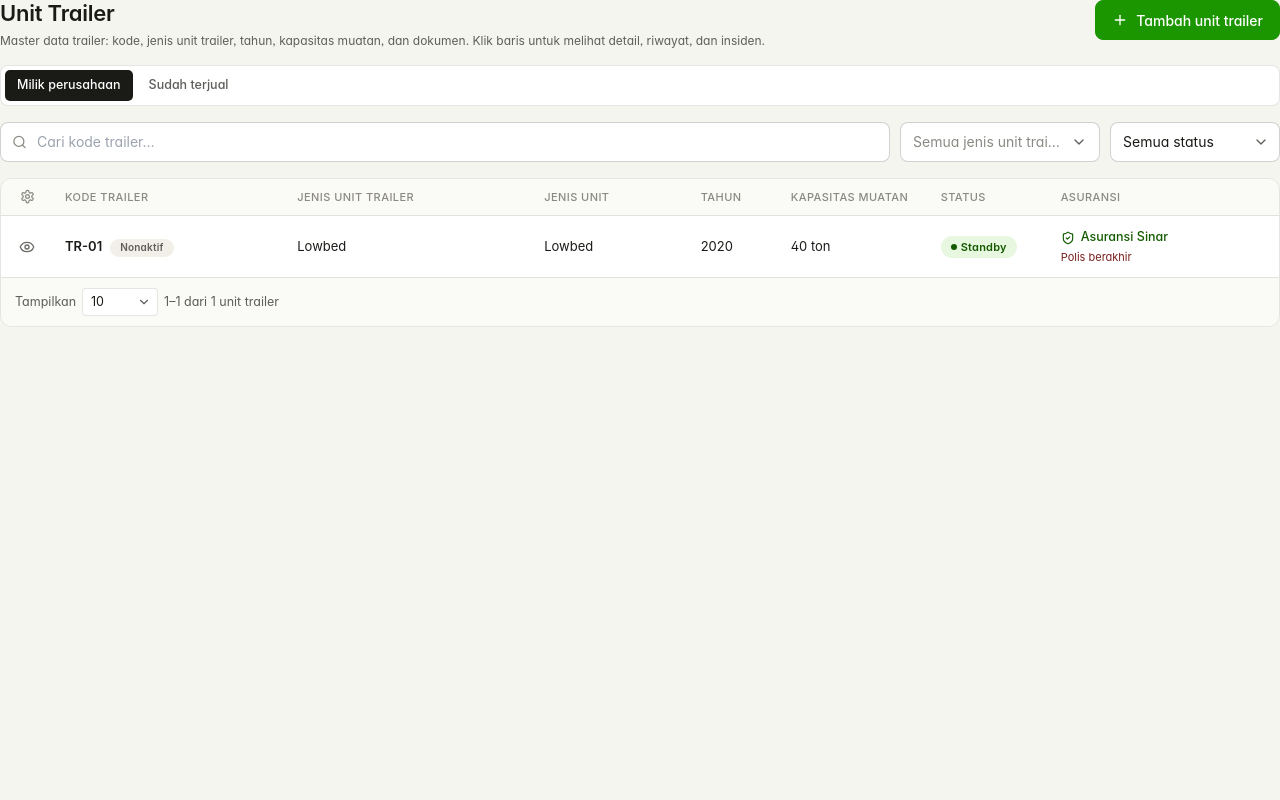
Test: UnitTrailerView › tahun tidak valid menggagalkan tambah — tidak ada yang dikirim ke server
Click the button "Tambah unit trailer" at (1188, 20), box [1095,0,1279,40]
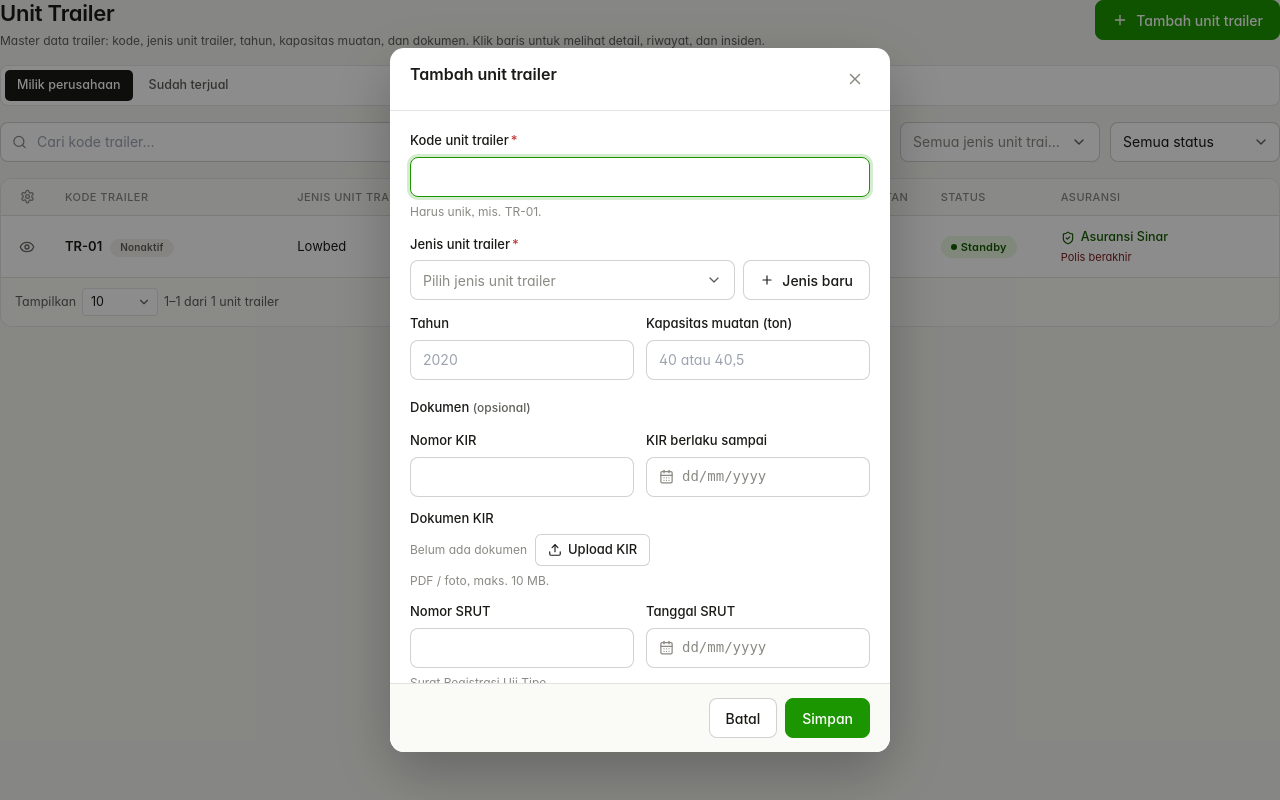
Type "TR-03" into the field below "Kode unit trailer" at (640, 176), box [410,156,870,196]
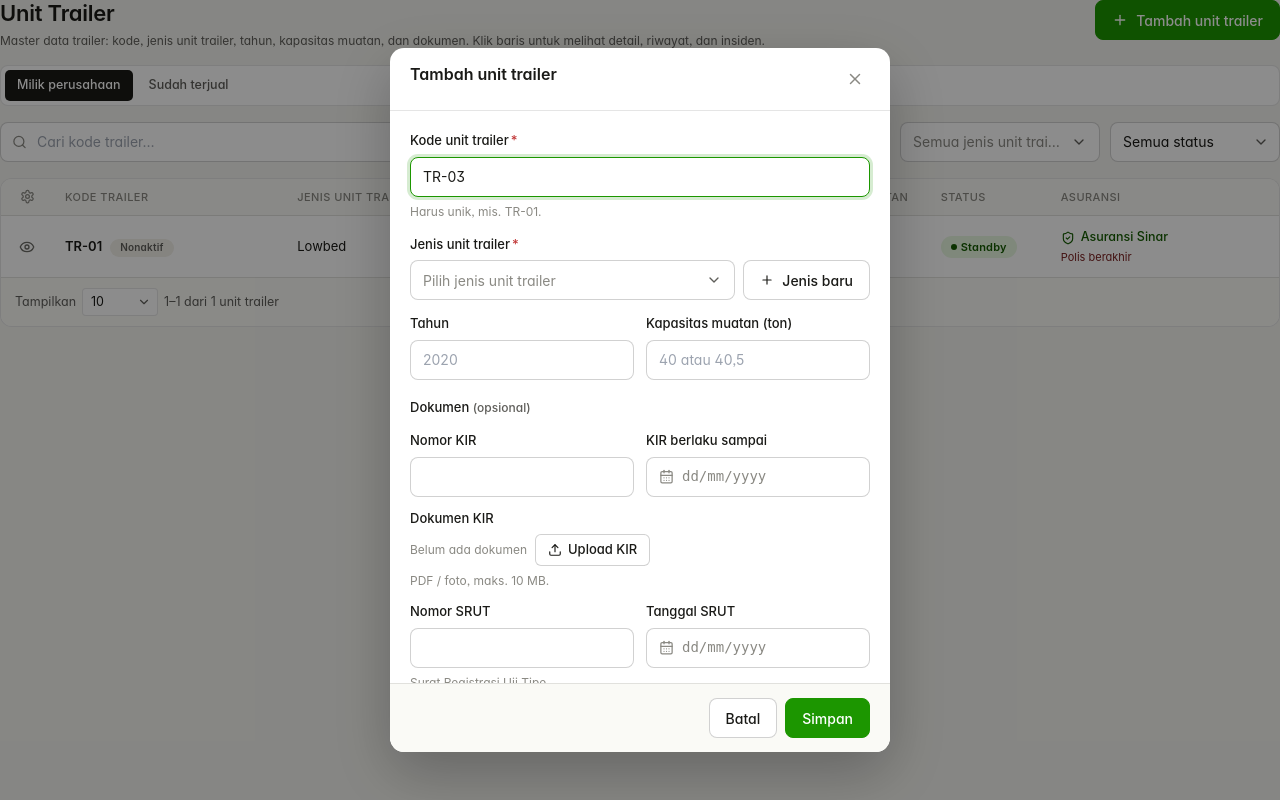
# Pilih jenis unit trailer supaya satu-satunya kesalahan adalah tahun.
Click the button with class "combobox-trigger" showing "Pilih jenis unit trailer" at (489, 280), box [410,260,735,300]
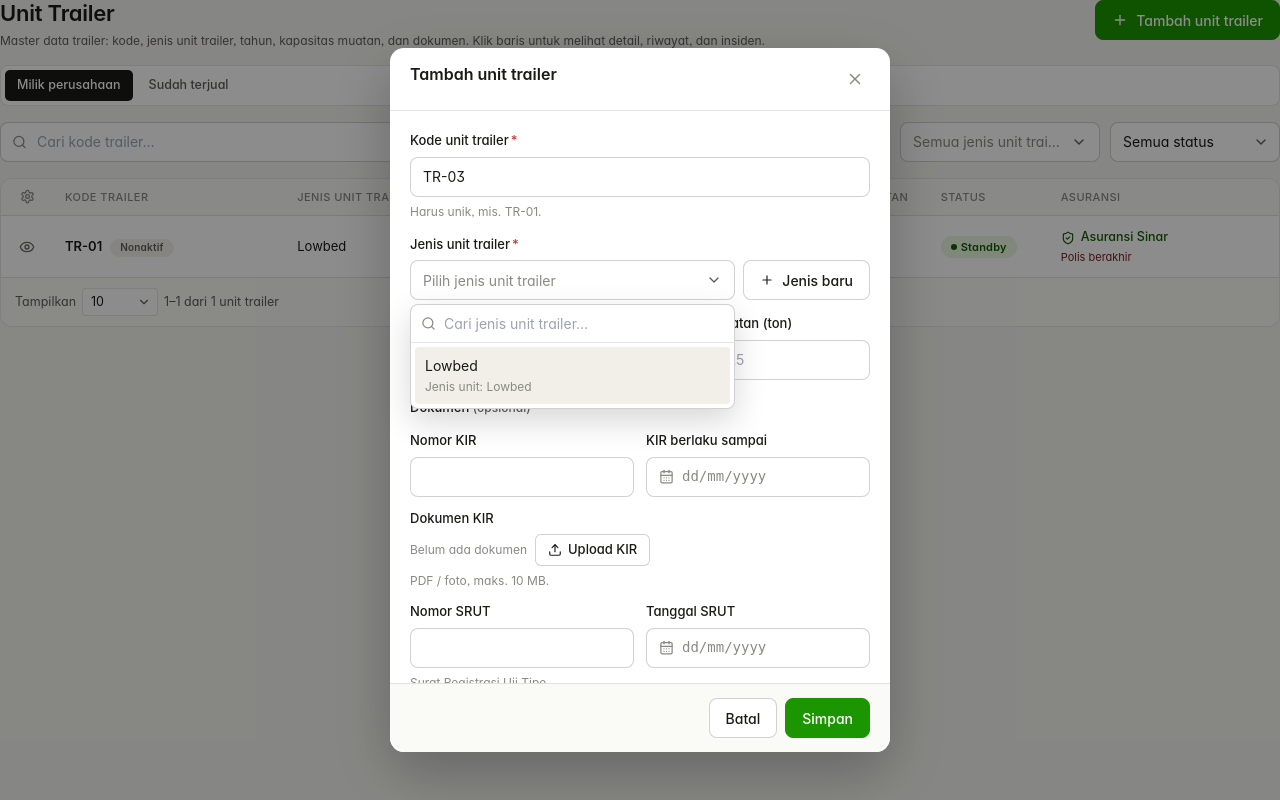
Click the text "Lowbed" at (451, 366), box [425,357,478,374]
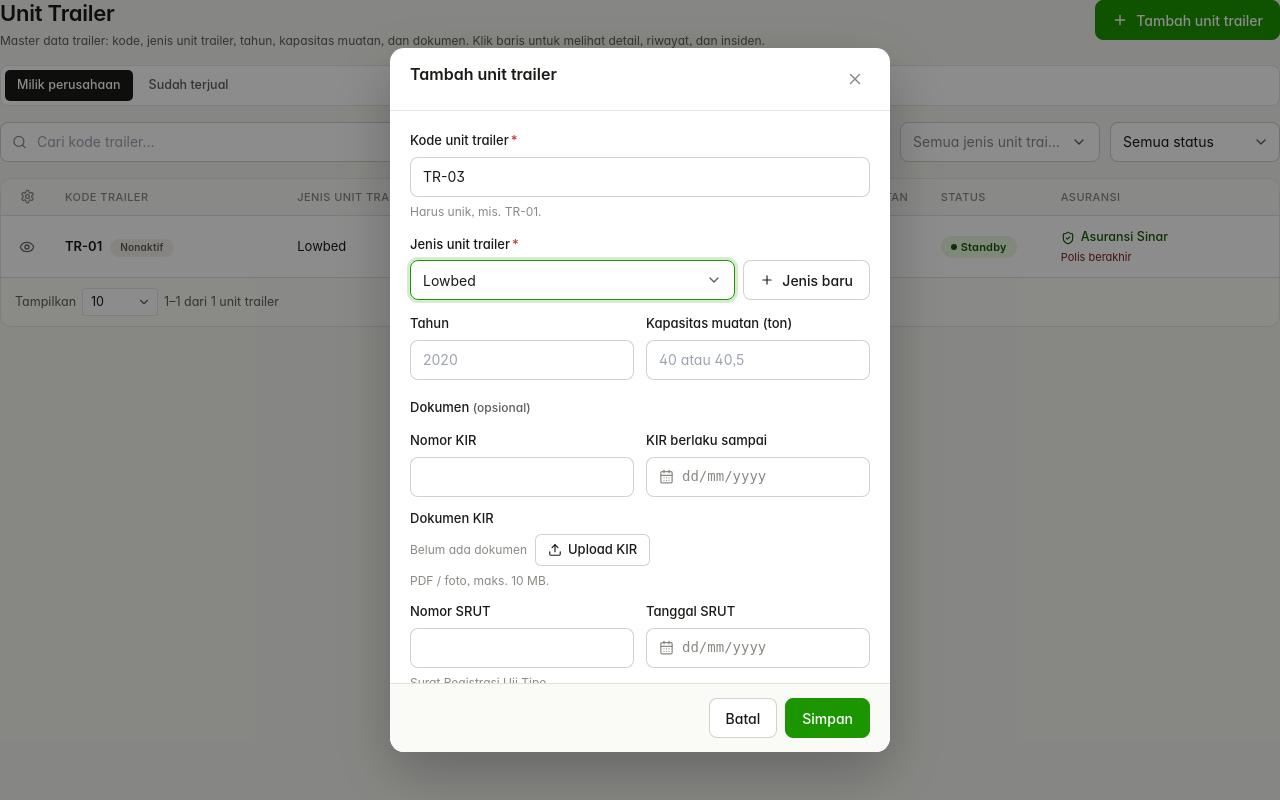
Type "20a0" into the field with placeholder "2020" at (522, 360), box [410,340,634,380]
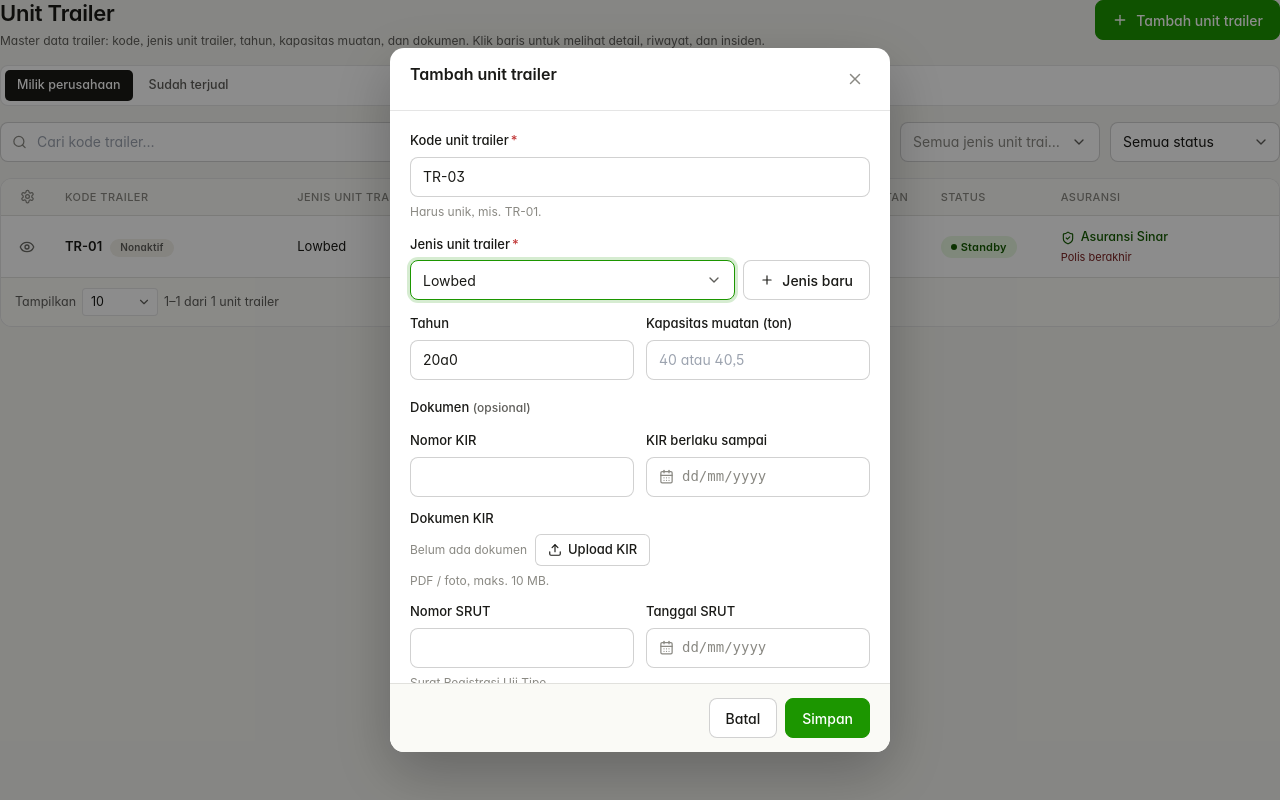
Click the button "Simpan" at (828, 718), box [785,698,870,738]
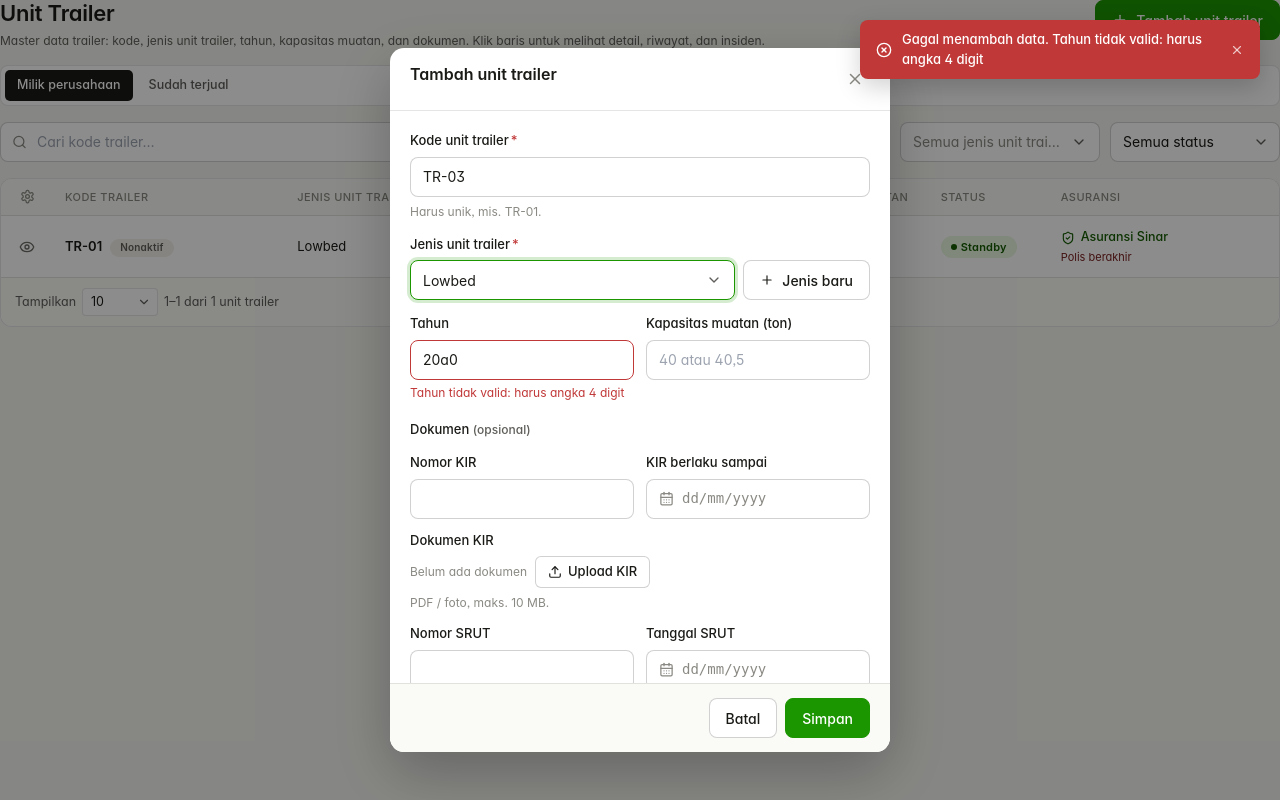
Expected: the text "Tahun tidak valid: harus angka 4 digit" is shown, [410,384,634,402]
Expected: the text "Gagal menambah data. Tahun tidak valid: harus angka 4 digit" is shown, [902,30,1220,69]
